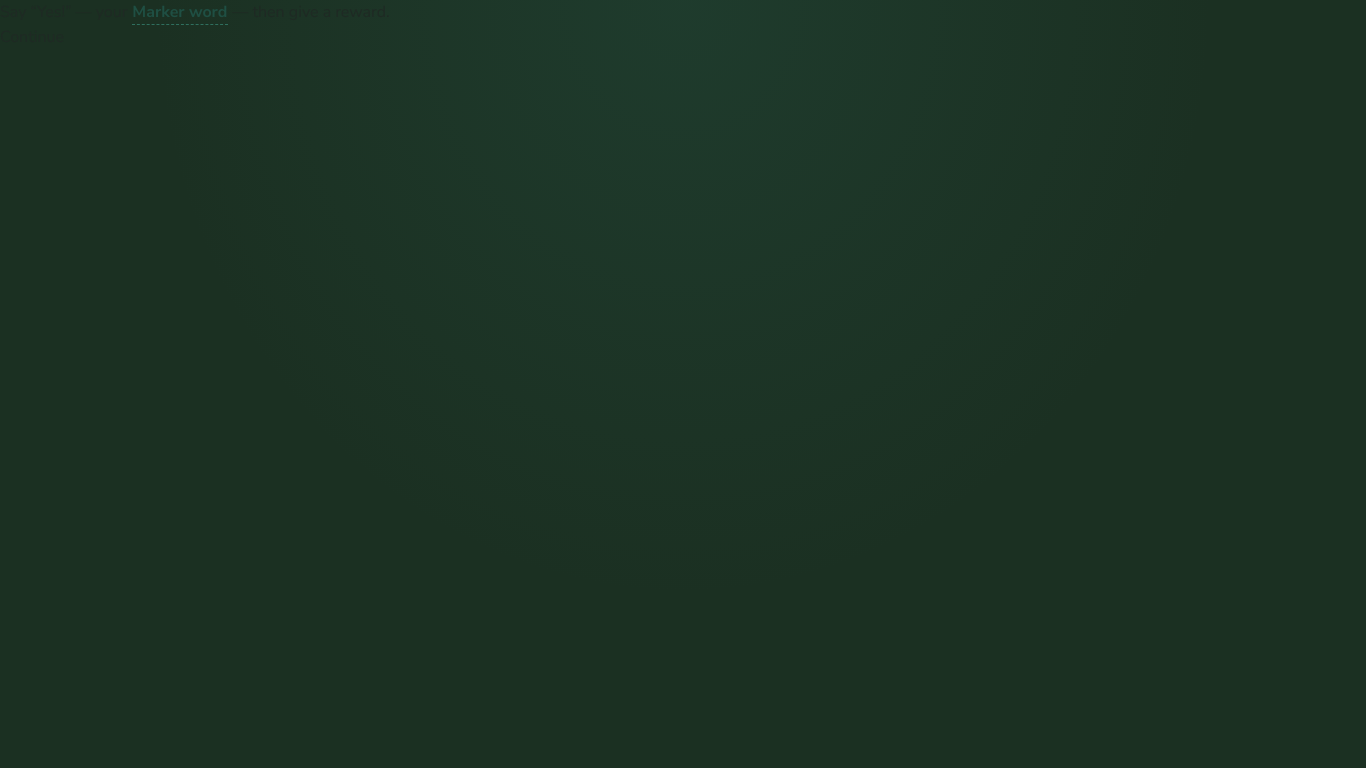
Test: TermRichText + GlossaryPanel › opens and closes a definition without losing exercise copy
Click the button with aria-label "Explain: Marker word" at point(180, 12), box x1=132 y1=0 x2=228 y2=25
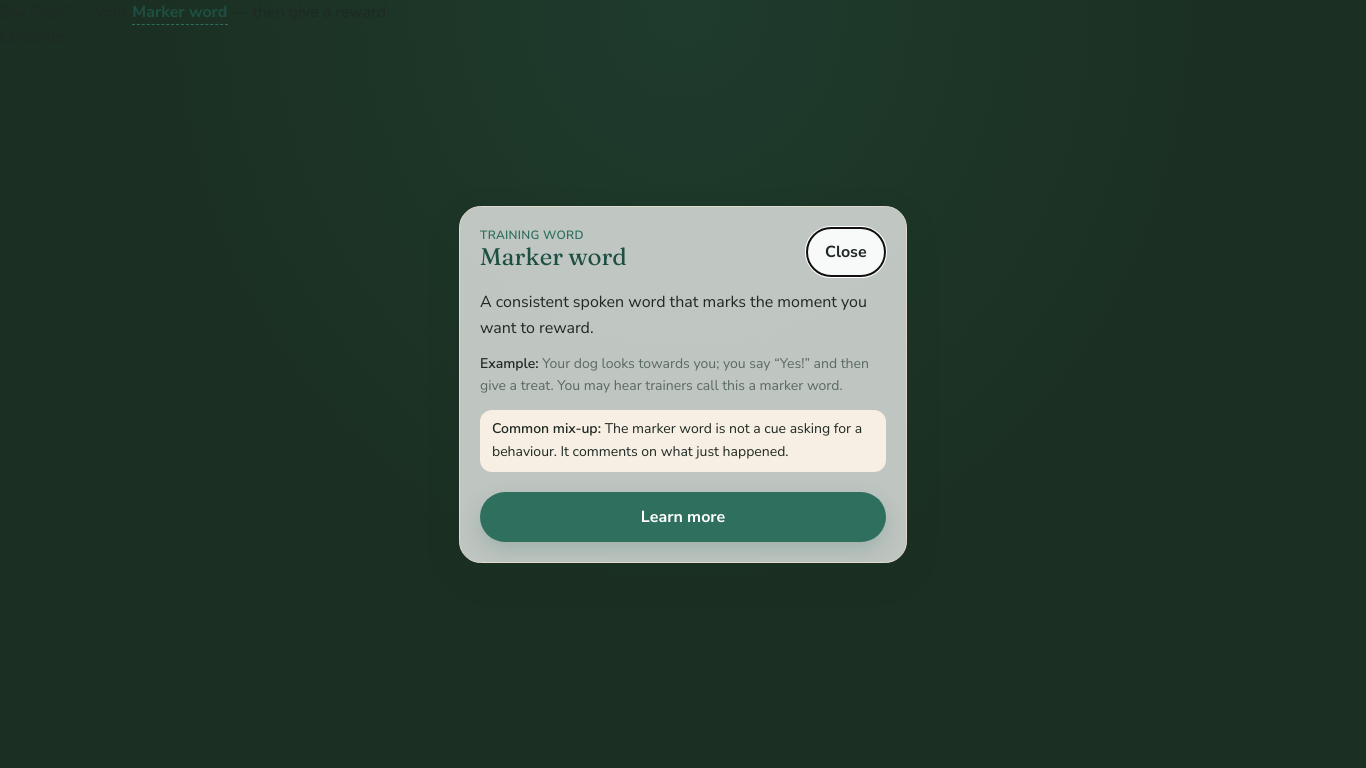
Check: the dialog is shown, box x1=459 y1=206 x2=907 y2=562
Check: the dialog shows "A consistent spoken word that marks the moment you want to reward.", box x1=480 y1=290 x2=867 y2=338
Check: the dialog shows "Example:", box x1=480 y1=354 x2=542 y2=372
Click the button "Close" at point(846, 252), box x1=806 y1=226 x2=886 y2=276
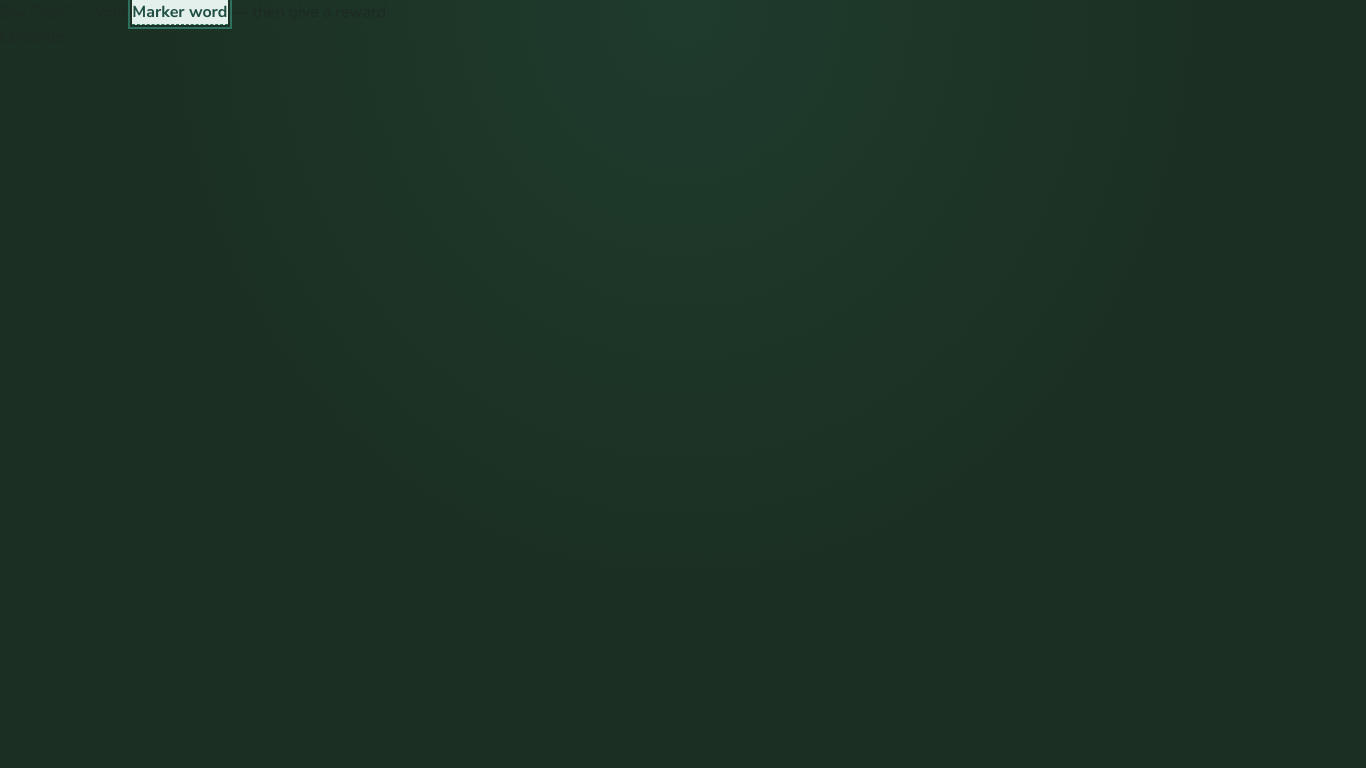
Check: the text "reward" is shown, box x1=228 y1=1 x2=390 y2=23
Check: the dialog is gone
